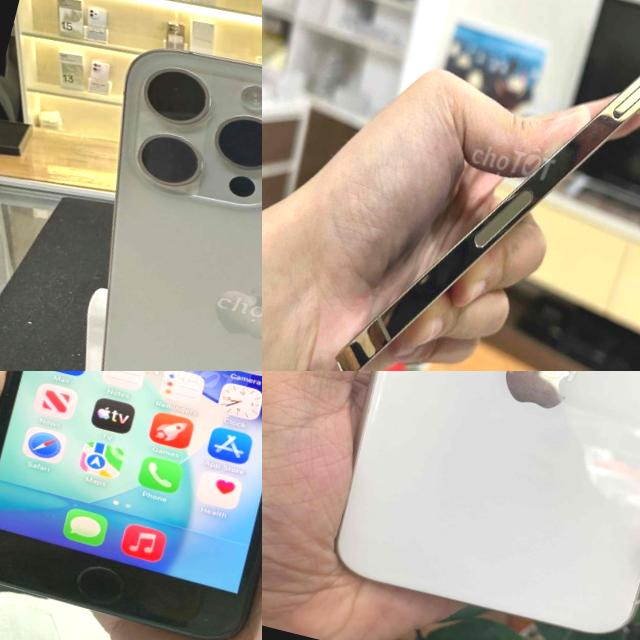scratch: (176, 93, 262, 215)
